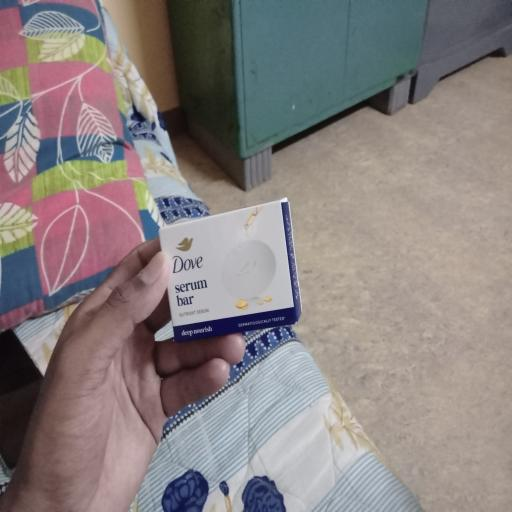Dove`1: (159, 200, 299, 342)
